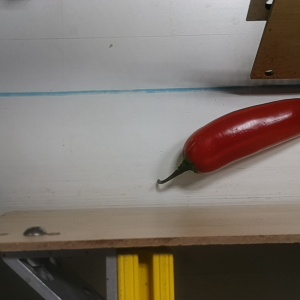Cut Point: (173, 140, 211, 179)
